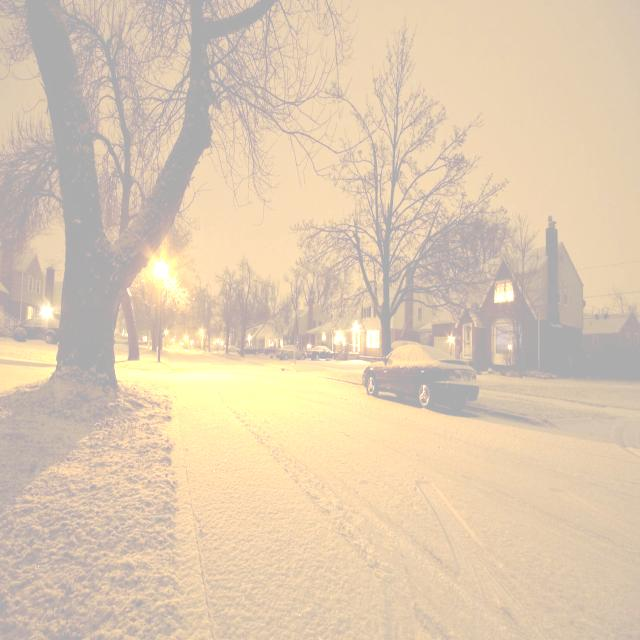Car: (360, 337, 480, 417)
